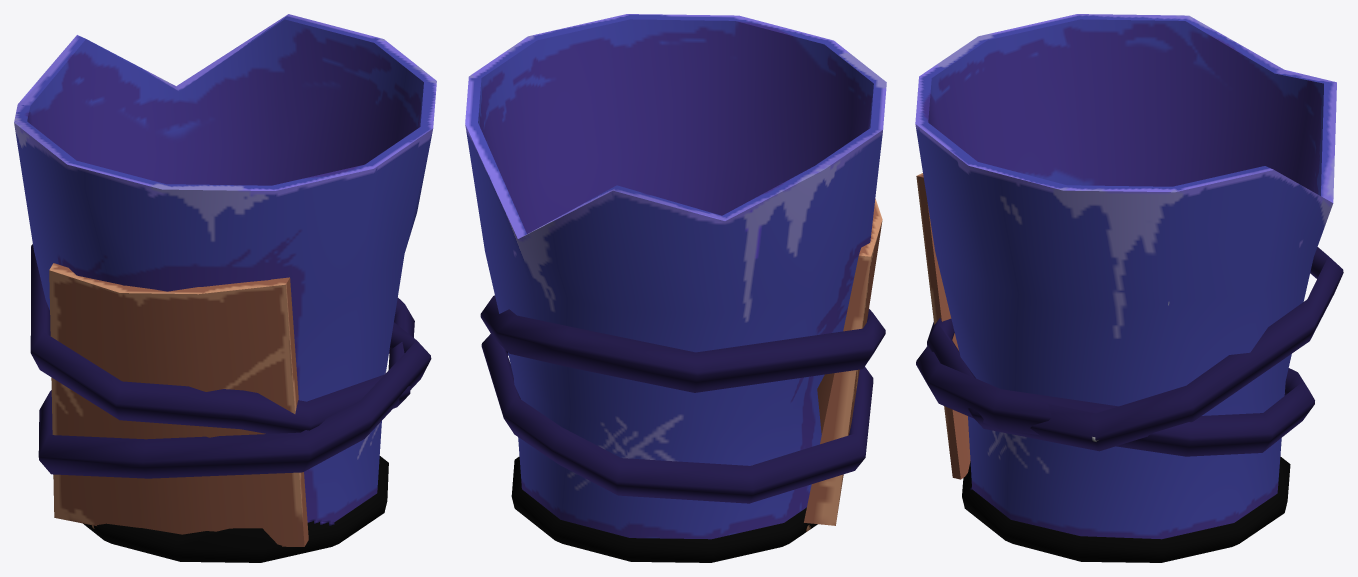
The model's file is Waste_Bin_1.glb.
3 renders of one model, left to right at view 1: azimuth 30°, elevation 25°; view 2: azimuth 150°, elevation 25°; view 3: azimuth 270°, elevation 25°, orthographic.
Visible parts, largest first — view 1: Waste_Bin_1; view 2: Waste_Bin_1; view 3: Waste_Bin_1.
Part boxes in pixels (x1,y1,x2,y2): Waste_Bin_1: (14, 14, 436, 562); Waste_Bin_1: (465, 14, 886, 562); Waste_Bin_1: (915, 14, 1343, 562).
Size of the model in its own units: 0.3428 by 0.3428 by 0.3361.
1 material, 1 textured.
